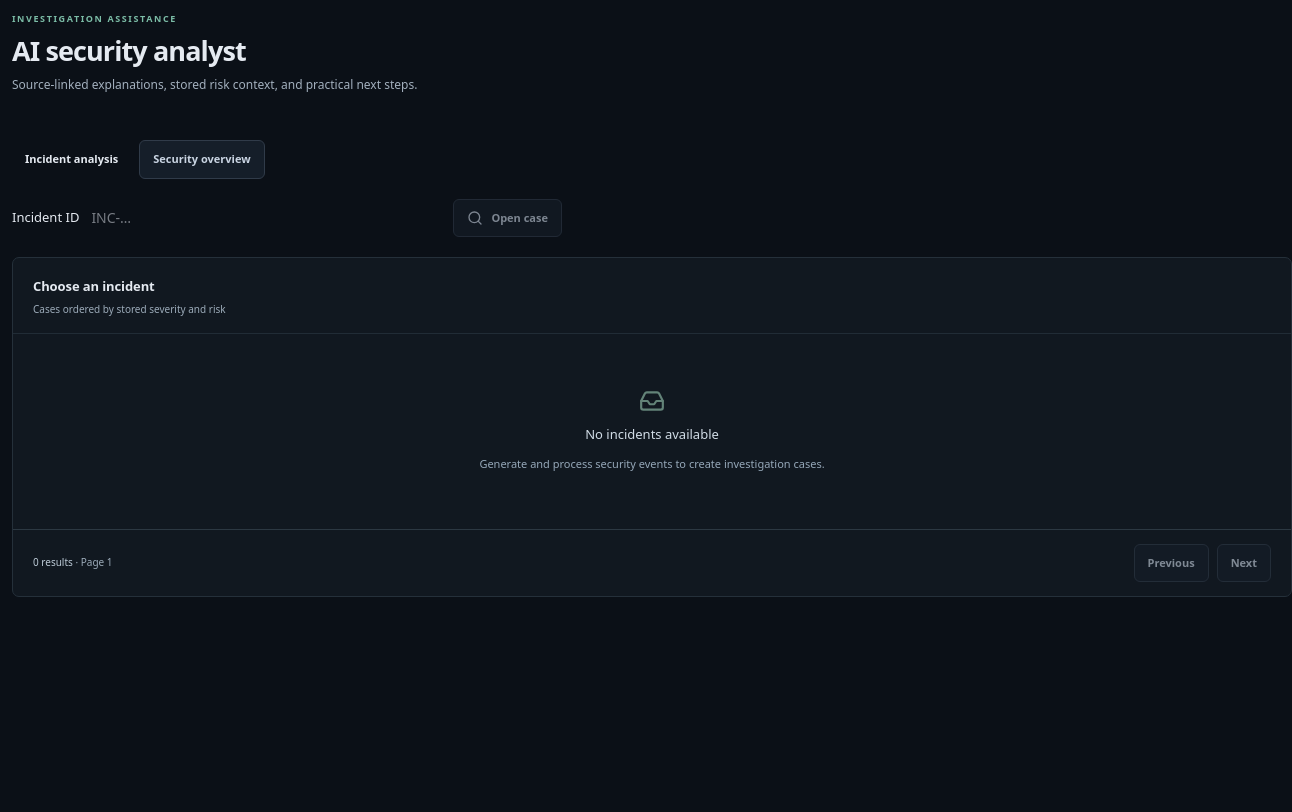
it: analyst page offers incident selection and controlled security overview
Expected: the text "No incidents available" is shown, left=585, top=425, right=719, bottom=444
Click the button "Security overview" at (202, 159), box left=139, top=140, right=265, bottom=179
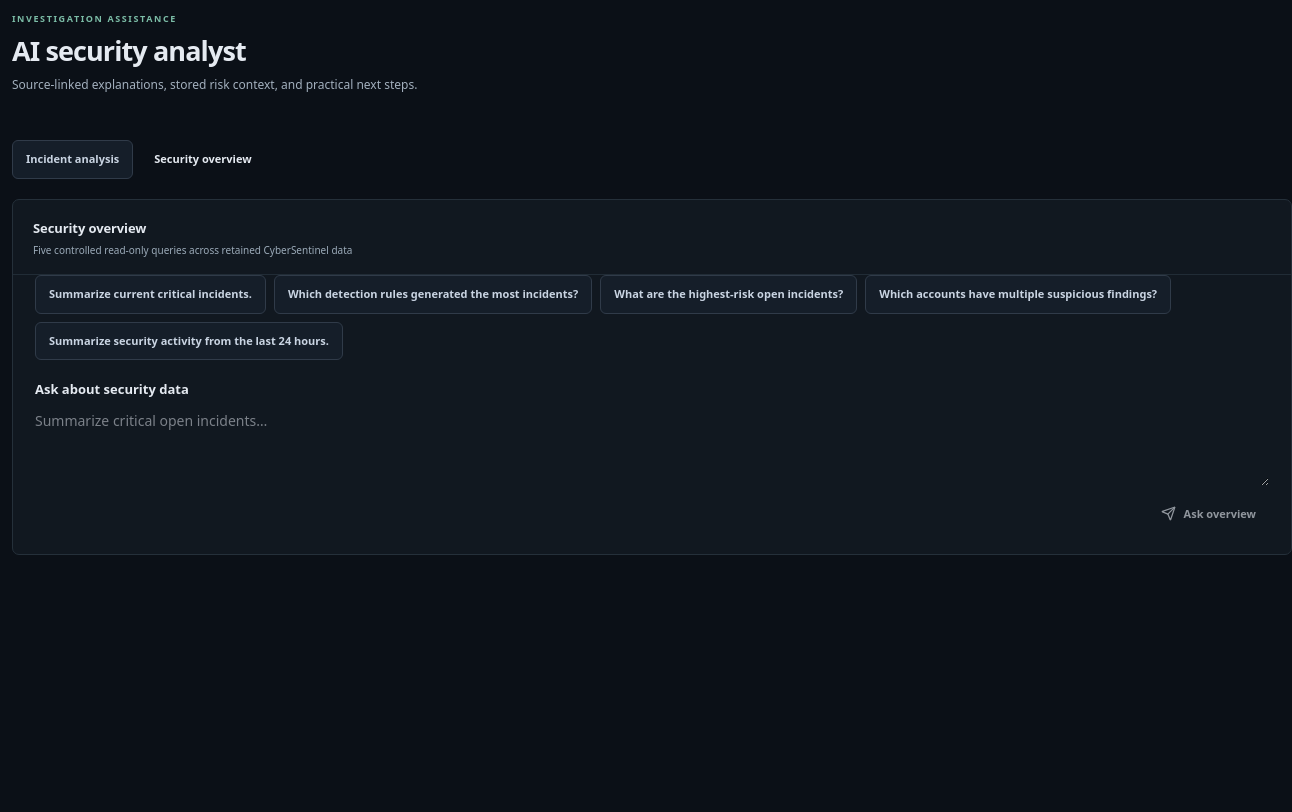
Result: the button "Summarize current critical incidents." is enabled
Click the button "Summarize current critical incidents." at (150, 294), box left=35, top=275, right=266, bottom=314
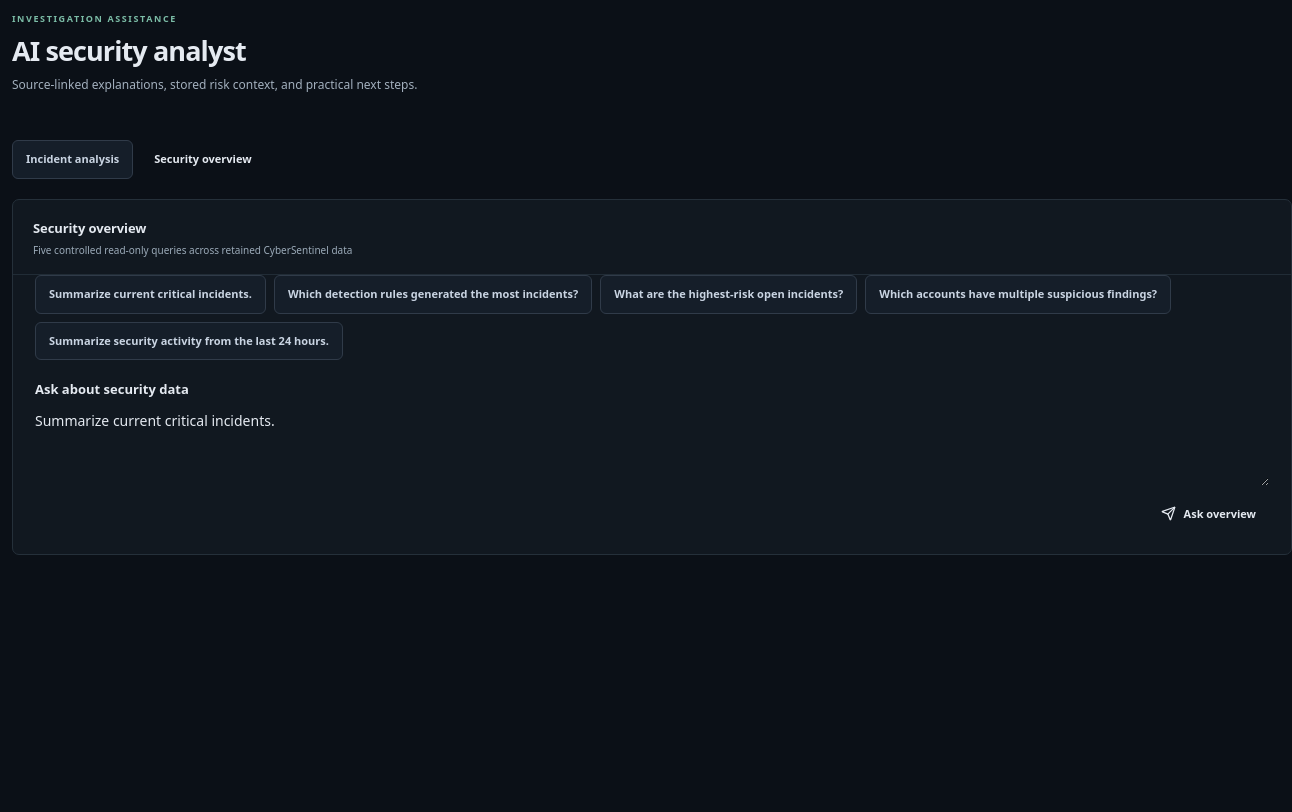
Result: the button "Ask overview" is enabled
Click the button "Ask overview" at (1208, 514), box left=1148, top=496, right=1269, bottom=532
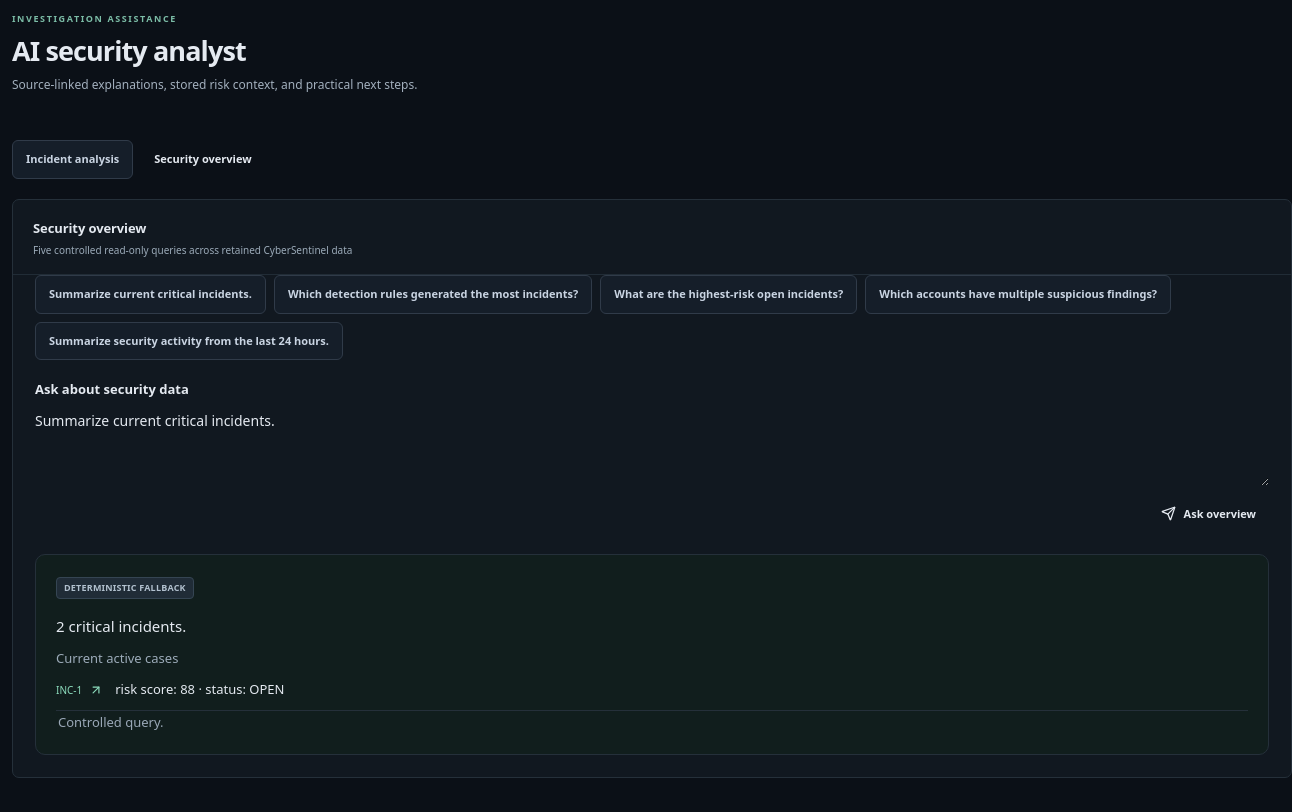
Result: the heading "2 critical incidents." is shown at left=56, top=616, right=186, bottom=636
